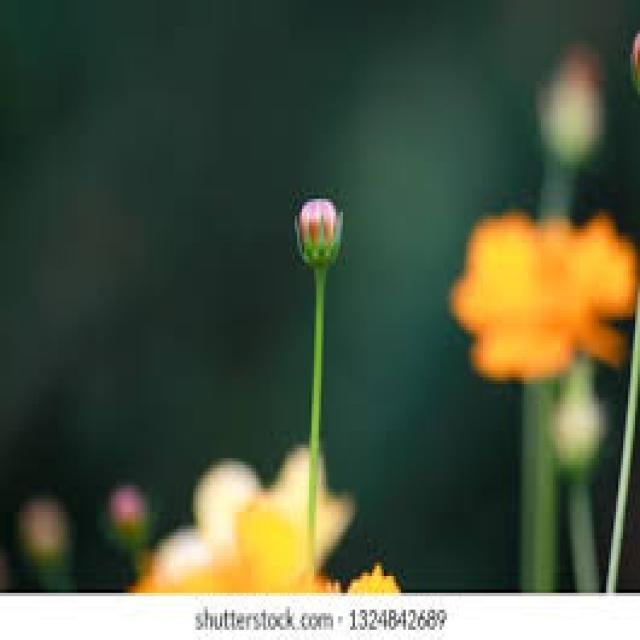Unbloomed: (296, 175, 363, 275)
